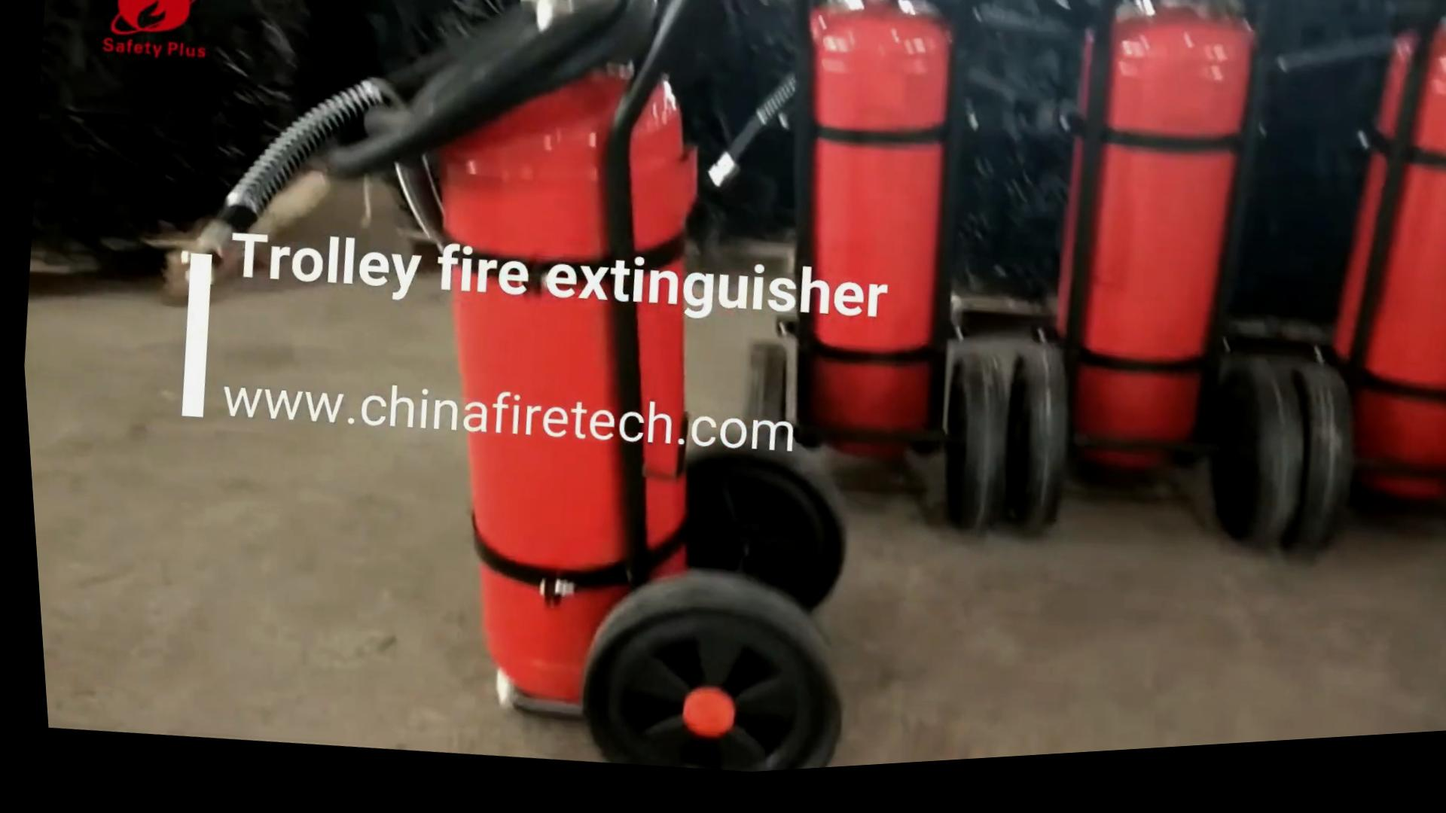FireExtinguisher: (324, 0, 797, 784), (970, 0, 1323, 539), (734, 0, 1015, 504), (1295, 6, 1446, 543)
